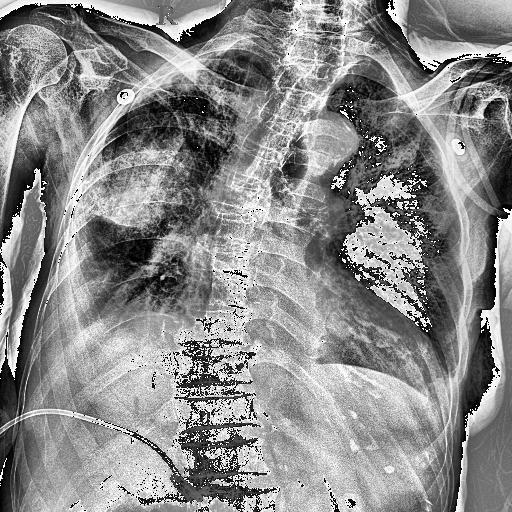10- Pleural effusion: (18, 251, 136, 353), (37, 219, 115, 339), (44, 235, 132, 337), (422, 344, 472, 422)
11- Pleural thickening: (138, 52, 242, 84)
3- Cardiomegaly: (155, 244, 461, 404)
4- Consolidation: (80, 102, 190, 228)
5- ILD: (308, 64, 458, 238), (134, 34, 246, 165), (393, 190, 450, 246)
8- Nodule-Mass: (72, 113, 212, 239), (81, 116, 204, 236)
9- Other lesion: (228, 66, 286, 206)
